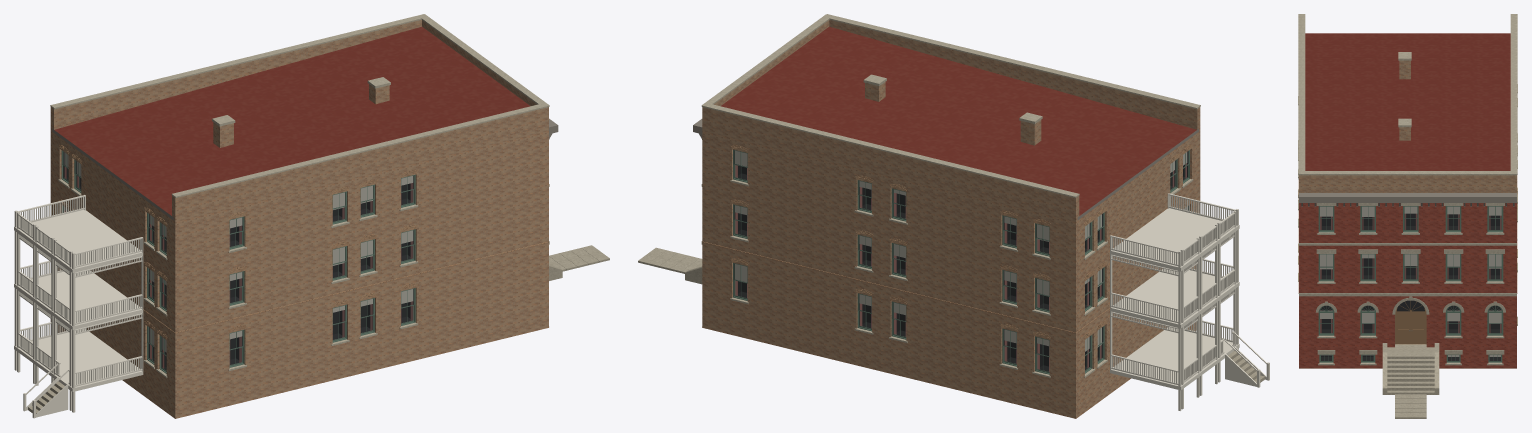
The model's file is flats_2127_prairie__as_mapped_1904.glb.
The picture shows the model from 3 angles, left to right: view 1: azimuth 30°, elevation 25°; view 2: azimuth 150°, elevation 25°; view 3: azimuth 270°, elevation 25°; orthographic projection. The views are drawn at different scales.
Visible parts, largest first — view 1: flats_2127_prairie__as_mapped_1904; view 2: flats_2127_prairie__as_mapped_1904; view 3: flats_2127_prairie__as_mapped_1904.
Part boxes in pixels (x1,y1,x2,y2): flats_2127_prairie__as_mapped_1904: (14,14,609,418); flats_2127_prairie__as_mapped_1904: (638,14,1269,418); flats_2127_prairie__as_mapped_1904: (1298,14,1517,418).
Bounding box in the file's own units: 38.24 × 14.08 × 13.95.
19 materials, 9 textured.
